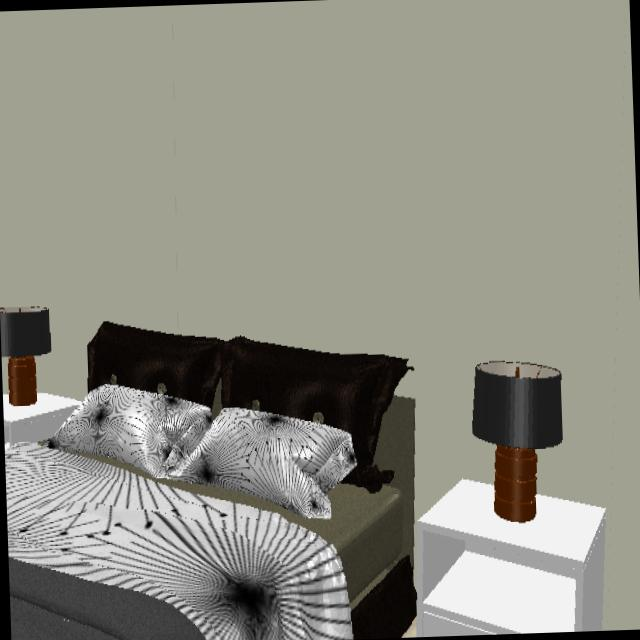bed: (4, 321, 416, 640)
lamp: (471, 361, 563, 522), (0, 307, 51, 406)
nighttable: (410, 481, 607, 637), (2, 394, 77, 445)
pillow: (51, 385, 356, 520)
